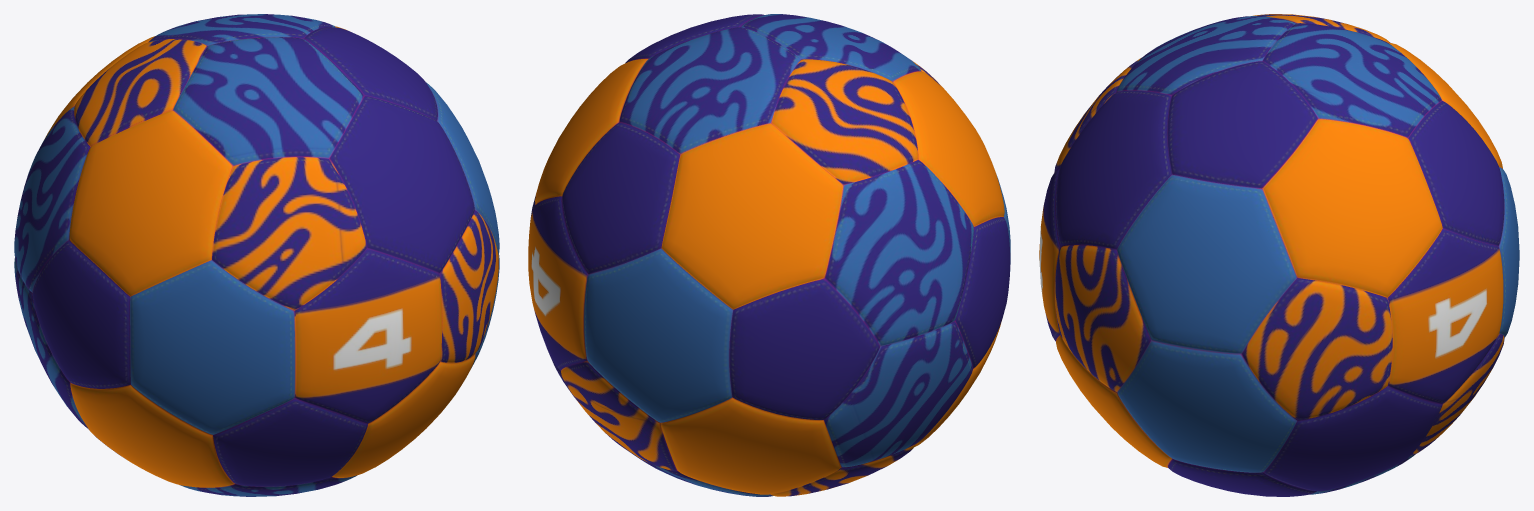
The model's file is Ball-2b.glb.
3 renders of one model, left to right at view 1: azimuth 30°, elevation 25°; view 2: azimuth 150°, elevation 25°; view 3: azimuth 270°, elevation 25°, orthographic.
Visible parts, largest first — view 1: Ball.001; view 2: Ball.001; view 3: Ball.001.
Part boxes in pixels (<box>): Ball.001: <box>14,14,499,496</box>; Ball.001: <box>528,14,1010,496</box>; Ball.001: <box>1039,14,1519,496</box>.
Size of the model in its own units: 1.56 by 1.55 by 1.55.
1 material, 1 textured.
